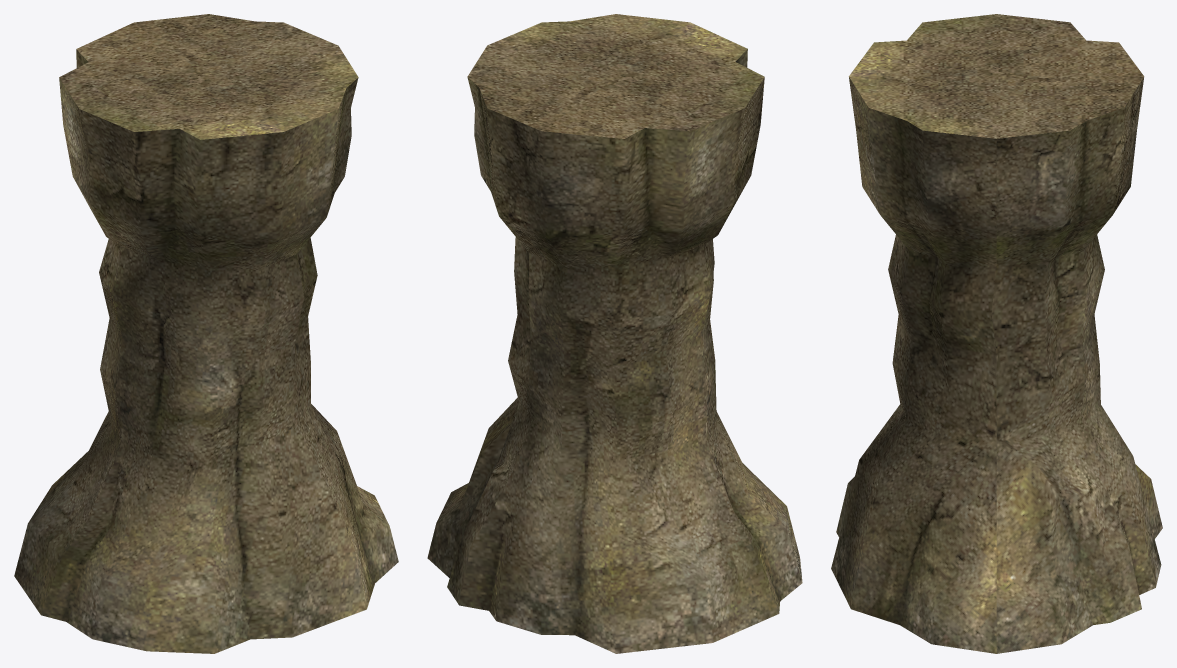
The model's file is anthill_01.glb.
3 renders of one model, left to right at view 1: azimuth 30°, elevation 25°; view 2: azimuth 150°, elevation 25°; view 3: azimuth 270°, elevation 25°, orthographic.
Visible parts, largest first — view 1: objanthill_01; view 2: objanthill_01; view 3: objanthill_01.
Part boxes in pixels (<box>): objanthill_01: <box>14,14,398,653</box>; objanthill_01: <box>427,14,802,653</box>; objanthill_01: <box>831,14,1162,653</box>.
Bounding box in the file's own units: 10.4 × 14.44 × 8.82.
Materials: 1 (1 with a texture image).
